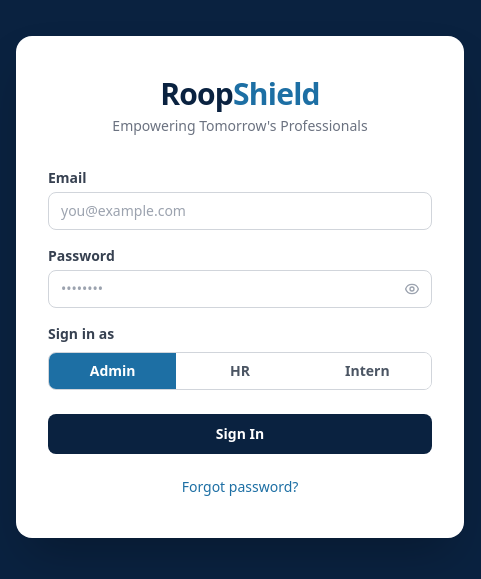
Test: LoginPage — Requirement 2.2: Client-side validation › shows an error when email format is invalid
Type "not-an-email" into the field labelled "Email". click: (240, 211)
box: [48,192,432,230]
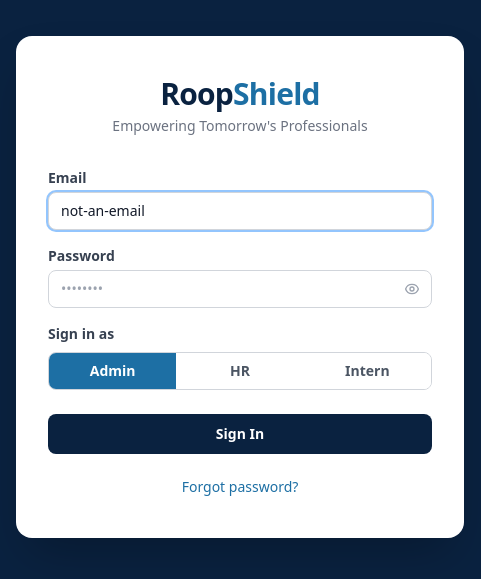
Click the button "Sign In". click: (240, 434)
box: [48,414,432,454]
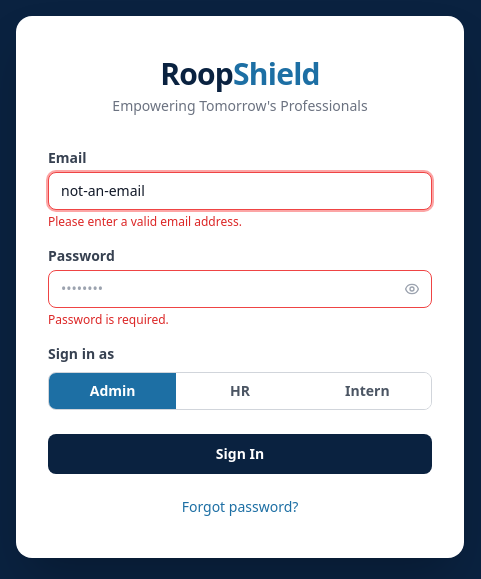
expect the text "Please enter a valid email address." is shown: met, box [48,213,242,230]
